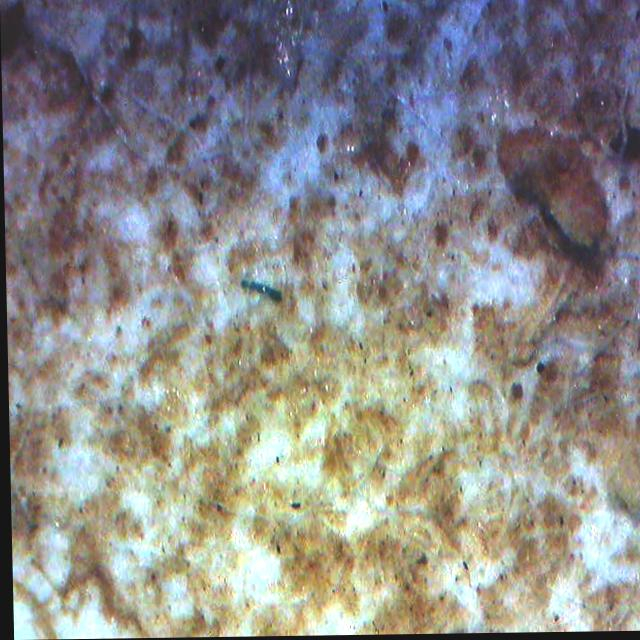microplastic: (240, 281, 281, 302)
